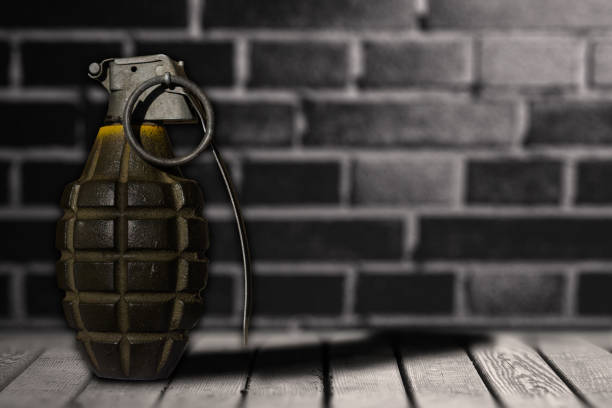e1: (62, 54, 253, 382)
